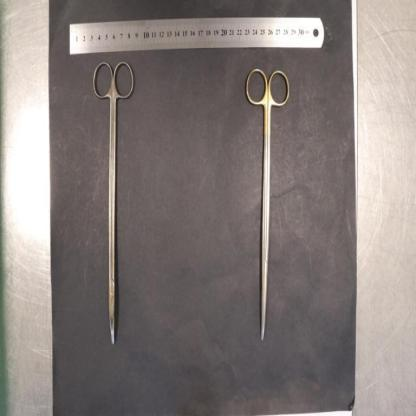7 Metzenbaum Scissors: (245, 67, 291, 340)
9 Metzenbaum Scissors: (91, 59, 135, 346)
